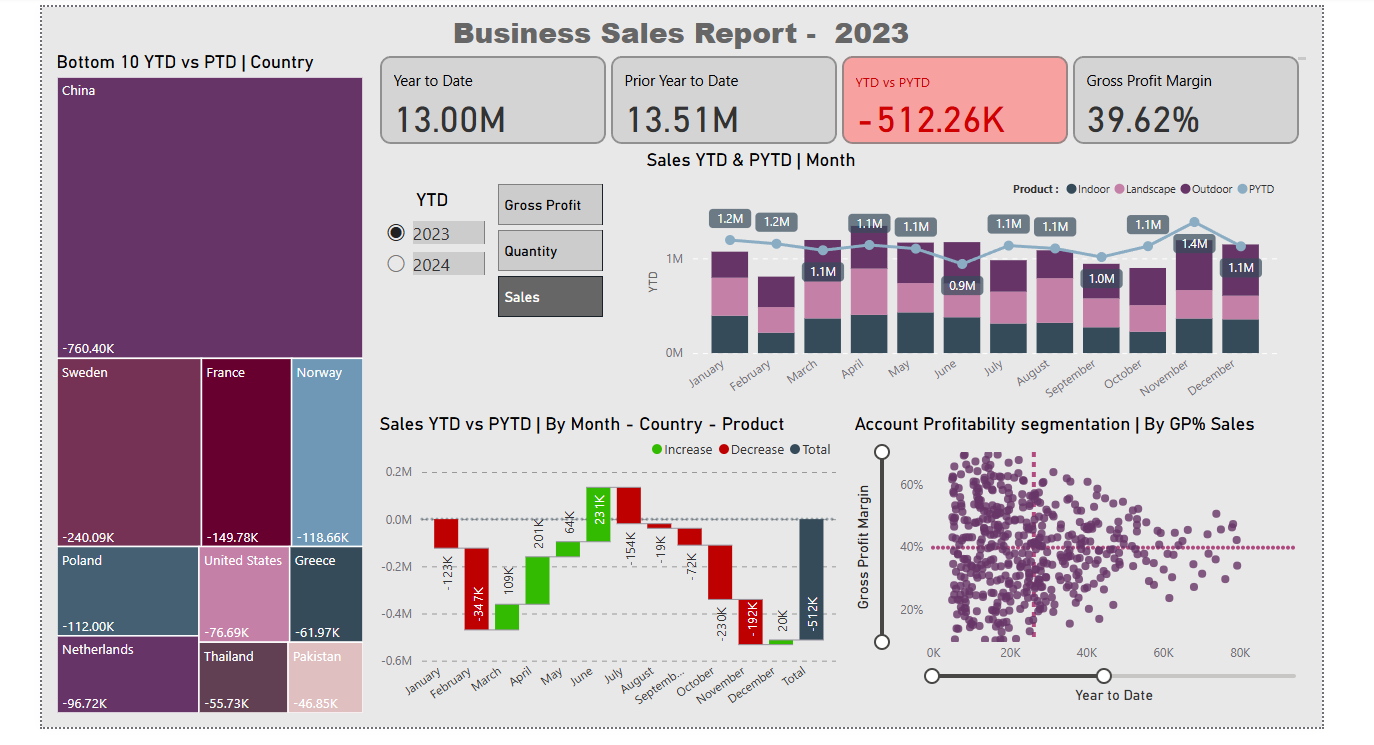

Layout of this report page (visuals, bound fields, positions):
{"tool":"powerbi","page":{"name":"Performance Report","canvas":[1280,720],"ordinal":0},"visuals":[{"type":"advancedSlicerVisual","fields":{"Values":["Switch.Values"]},"box":[451,172,115,145],"z":4000},{"type":"cardVisual","fields":{"Data":["_Measure.switch_YTD","_Measure.switch_PYTD","_Measure.YTD vs PYTD","_Measure.GP %"]},"box":[333,44,932,98],"z":5000},{"type":"treemap","title":"Bottom 10 YTD vs PTD | Country","fields":{"Group":["dim_accounts.country"],"Values":["_Measure.YTD vs PYTD"]},"box":[10,44,316,667],"z":6000},{"type":"waterfallChart","fields":{"Y":["_Measure.YTD vs PYTD"],"Category":["dim_date.Date.Variation.Date Hierarchy.Month","dim_accounts.country","dim_products.Produt_Type","dim_products.Product_Name"]},"box":[333,406,466,305],"z":7000},{"type":"lineStackedColumnComboChart","fields":{"Category":["dim_date.Date.Variation.Date Hierarchy.Quarter","dim_date.Date.Variation.Date Hierarchy.Month"],"Y":["_Measure.switch_YTD"],"Y2":["_Measure.switch_PYTD"],"Series":["dim_products.Produt_Type"]},"box":[600,142,642,272],"z":8000},{"type":"scatterChart","fields":{"Y":["_Measure.GP %"],"X":["_Measure.switch_YTD"],"Category":["dim_accounts.Account"]},"box":[808,406,461,295],"z":9000},{"type":"slicer","title":"YTD","fields":{"Values":["dim_date.Date.Variation.Date Hierarchy.Year"]},"box":[333,182,115,96],"z":10000},{"type":"textbox","box":[10,5,1259,53],"z":16000}]}

Visuals, with their boxes on the page's 1280x720 design canvas (x1, y1, x2, y2). These are canvas units, not pixel positions in the 1374x745 screenshot, which may show the page scaled, cropped or inside an application window:
advancedSlicerVisual - Switch.Values: {"x1": 451, "y1": 172, "x2": 566, "y2": 317}
cardVisual - _Measure.switch_YTD x _Measure.switch_PYTD: {"x1": 333, "y1": 44, "x2": 1265, "y2": 142}
"Bottom 10 YTD vs PTD | Country" treemap: {"x1": 10, "y1": 44, "x2": 326, "y2": 711}
waterfallChart - _Measure.YTD vs PYTD x dim_date.Date.Variation.Date Hierarchy.Month: {"x1": 333, "y1": 406, "x2": 799, "y2": 711}
lineStackedColumnComboChart - dim_date.Date.Variation.Date Hierarchy.Quarter x dim_date.Date.Variation.Date Hierarchy.Month: {"x1": 600, "y1": 142, "x2": 1242, "y2": 414}
scatterChart - _Measure.GP % x _Measure.switch_YTD: {"x1": 808, "y1": 406, "x2": 1269, "y2": 701}
"YTD" slicer: {"x1": 333, "y1": 182, "x2": 448, "y2": 278}
textbox: {"x1": 10, "y1": 5, "x2": 1269, "y2": 58}
